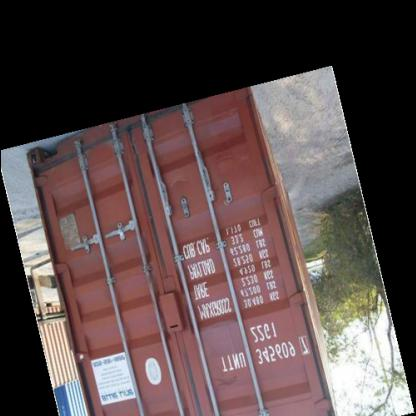Damage: (209, 146, 254, 178), (212, 372, 242, 394), (164, 171, 190, 193)
